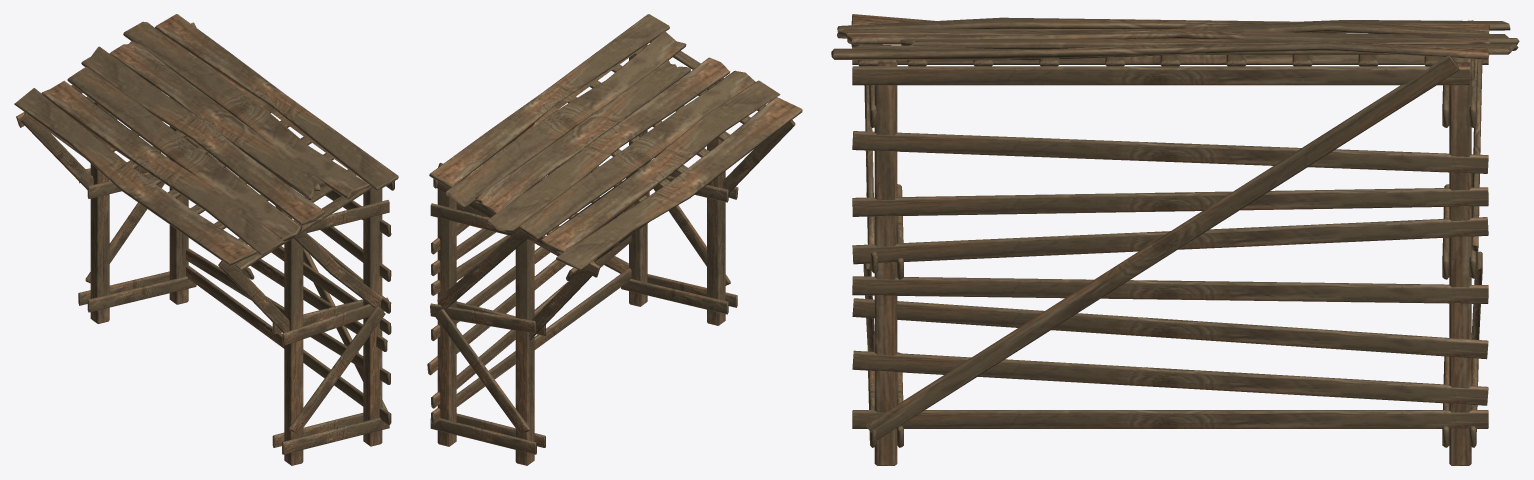
File: SM_market_01.fbx
3 views of the same model, side by side, from view 1: azimuth 30°, elevation 25°; view 2: azimuth 150°, elevation 25°; view 3: azimuth 270°, elevation 25° (orthographic). The views are drawn at different scales.
Visible parts, largest first — view 1: SM_market_01_LOD0; view 2: SM_market_01_LOD0; view 3: SM_market_01_LOD0.
Part boxes in pixels (<box>): SM_market_01_LOD0: <box>14,14,398,465</box>; SM_market_01_LOD0: <box>427,14,802,465</box>; SM_market_01_LOD0: <box>831,14,1519,465</box>.
Size of the model in its own units: 199 by 467 by 315.
Materials: 2 (2 with a texture image).
